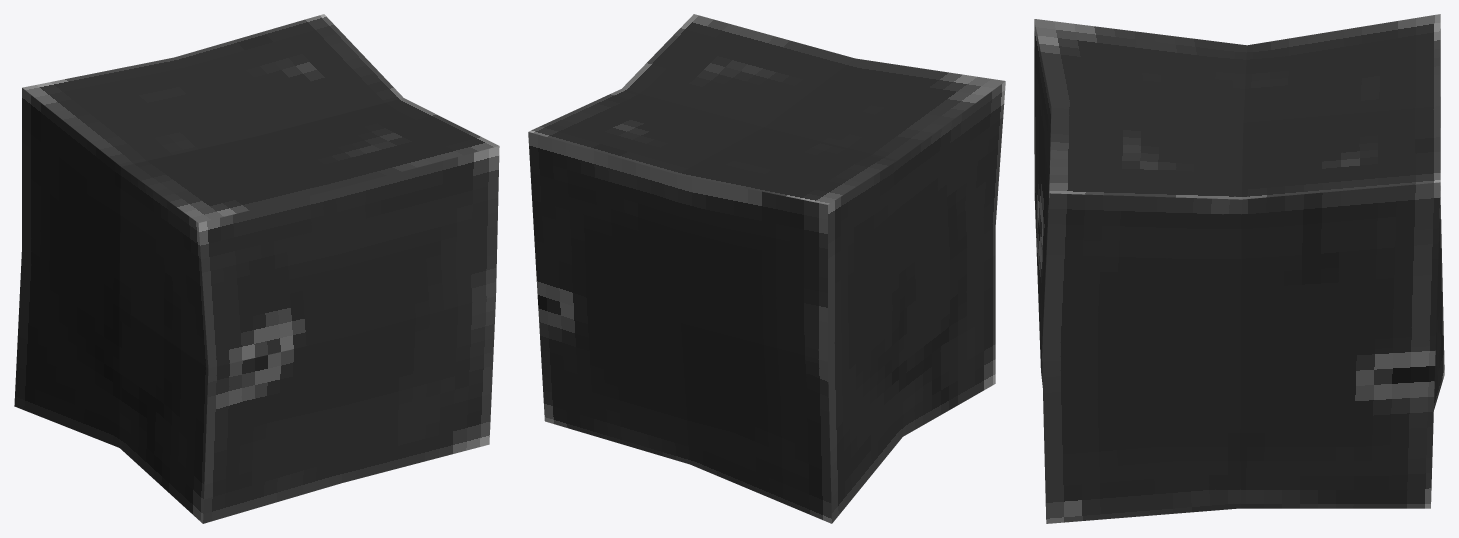
The model's file is stone1.glb.
The picture shows the model from 3 angles, left to right: view 1: azimuth 30°, elevation 25°; view 2: azimuth 150°, elevation 25°; view 3: azimuth 270°, elevation 25°; orthographic projection. The views are drawn at different scales.
Visible parts, largest first — view 1: Cube; view 2: Cube; view 3: Cube.
Boxes of the visible parts, x1,y1,x2,y2 form: Cube: (14,14,499,523); Cube: (528,14,1005,523); Cube: (1034,14,1444,523).
Bounding box in the file's own units: 2.07 × 2.02 × 2.06.
1 material, 1 textured.
